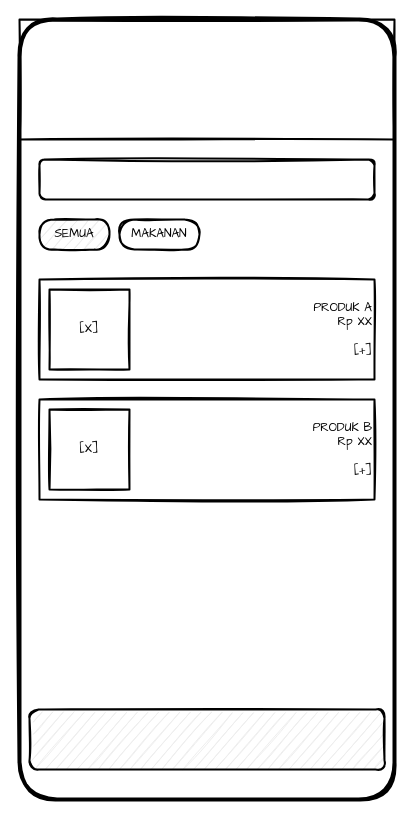
The diagram is 413 pixels wide and 818 high, and some of its shapes have lost their labels. The centre of each missing label's shape, as x and y in pixels:
"[ BANNER IMAGE ] RM PONDOK MARISA" goes at pixel 206 79.
"[CART] 2 ITEM Rp XX" goes at pixel 206 739.
"NAMA / NO MEJA..." goes at pixel 206 179.
